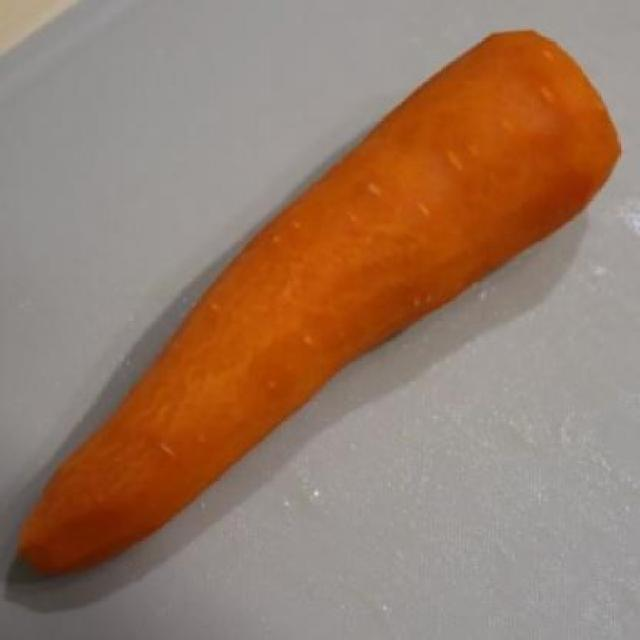carrot: (12, 27, 630, 596)
